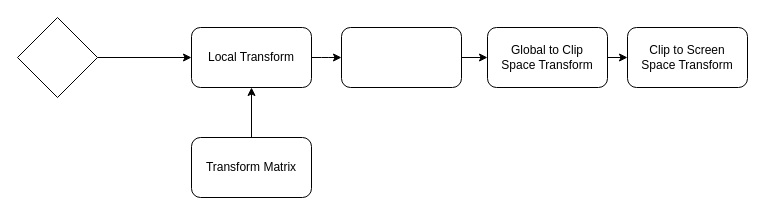
Some shapes in this 765 by 215 pixel diagram are drawn without their labels. The centre of each missing label's shape, as x and y in pixels:
"Local to Global Space Transform" goes at [401,57].
"Points" goes at [57,57].
